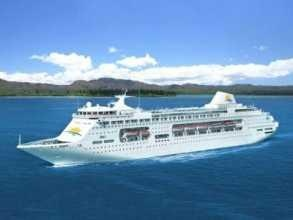youlun: (19, 87, 278, 165)
